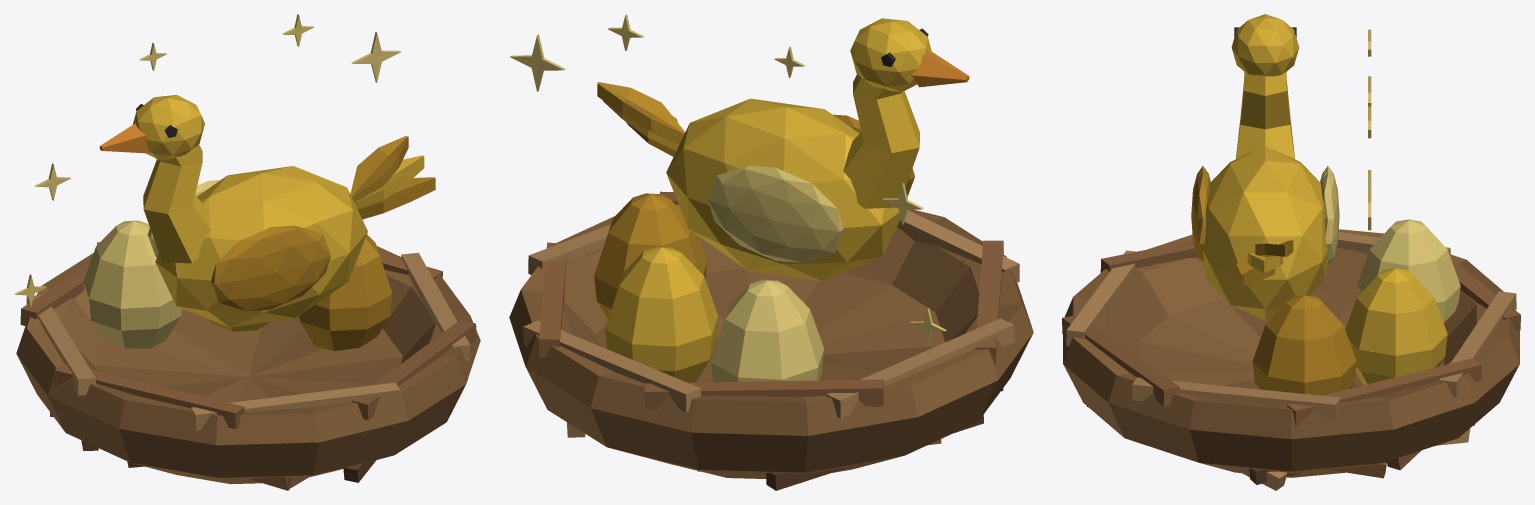
The model's file is Decor_Beanstalk_Nest.fbx.
The picture shows the model from 3 angles, left to right: view 1: azimuth 30°, elevation 25°; view 2: azimuth 150°, elevation 25°; view 3: azimuth 270°, elevation 25°; orthographic projection. The views are drawn at different scales.
Parts seen in each view (by area): view 1: Nest_Body; view 2: Nest_Body; view 3: Nest_Body.
Part boxes in pixels (bbox=[...]): Nest_Body: bbox=[14, 14, 480, 490]; Nest_Body: bbox=[509, 14, 1033, 490]; Nest_Body: bbox=[1062, 14, 1520, 490].
Size of the model in its own units: 18 by 16.2 by 18.
